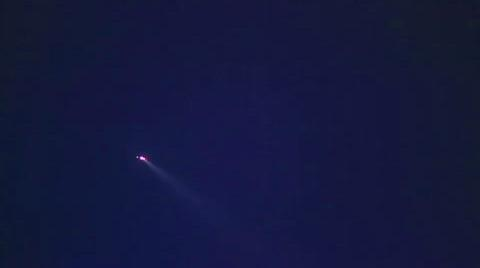Plane: (120, 146, 192, 189)
